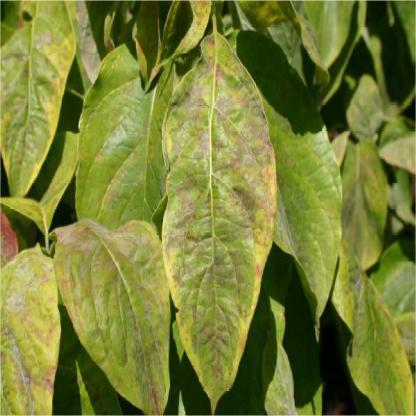bell pepper leaf spot: (162, 29, 279, 415), (261, 34, 344, 339), (51, 223, 175, 415), (69, 53, 183, 228), (333, 236, 415, 412), (1, 8, 76, 197), (1, 238, 58, 415)
